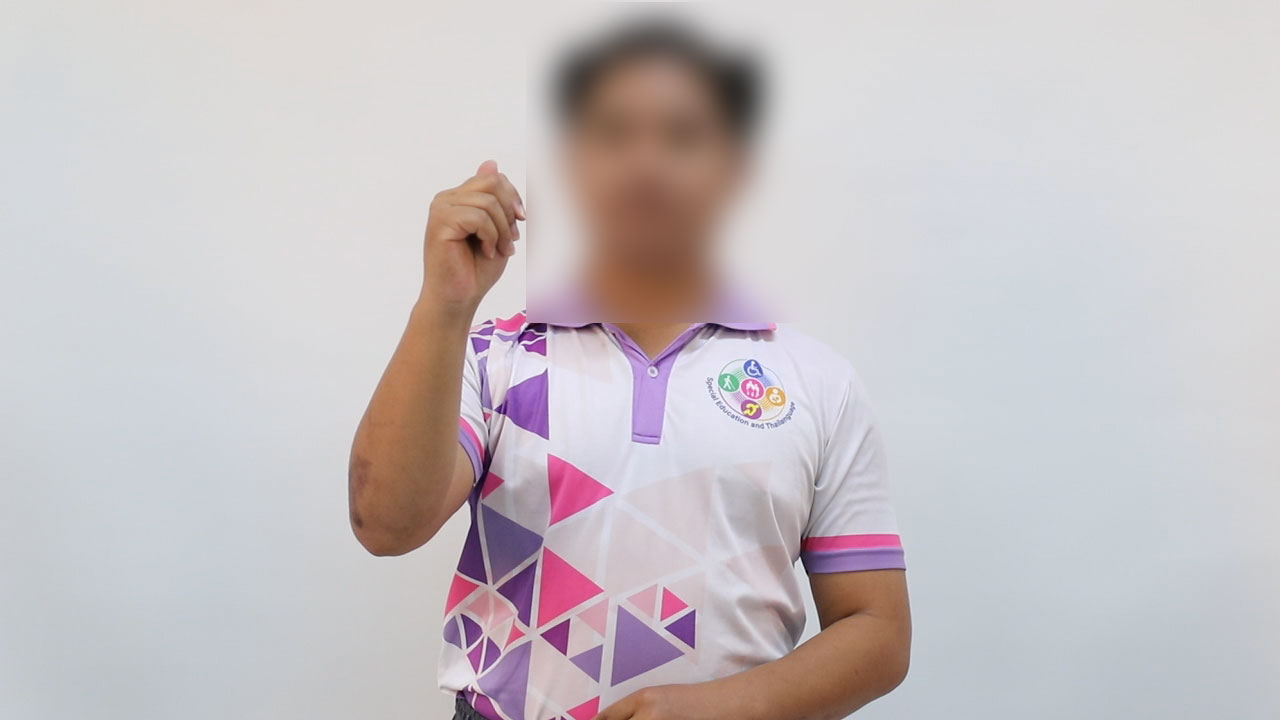tor: (380, 146, 546, 335)
